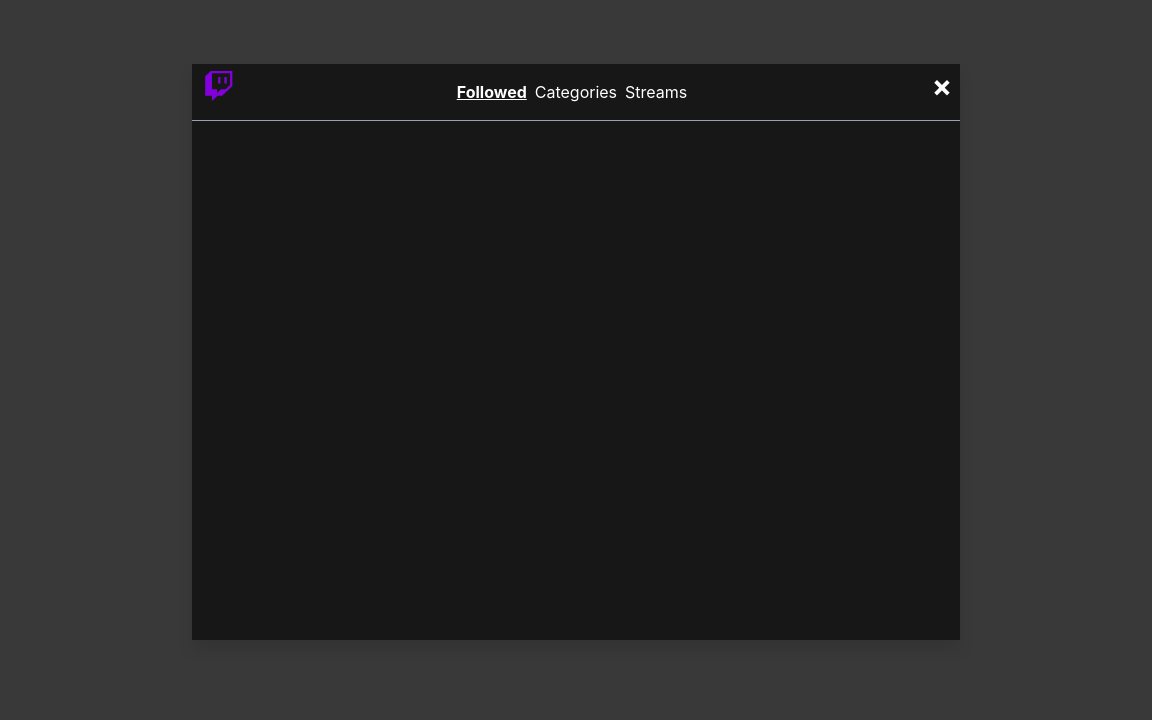
a failed next page can be retried, then the list ends
Click the button "Streams" at (656, 92), box 625,80 -> 687,104
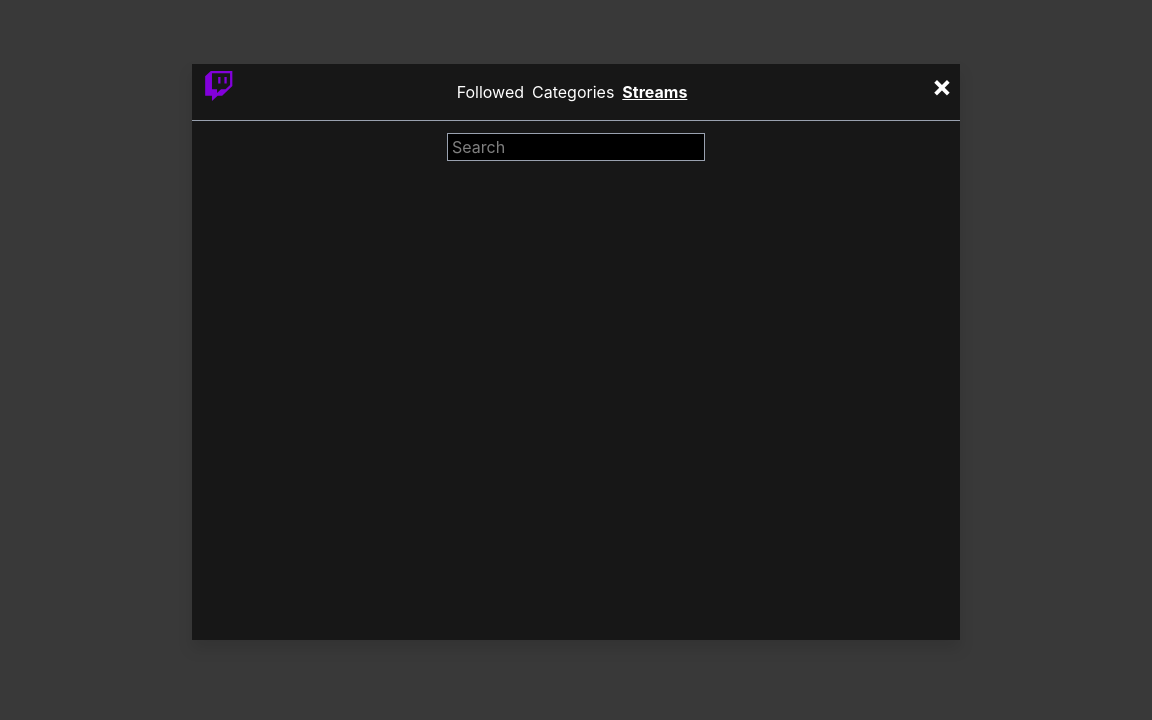
Type "ab" into the search field with placeholder "Search" at (576, 147), box 447,133 -> 705,161
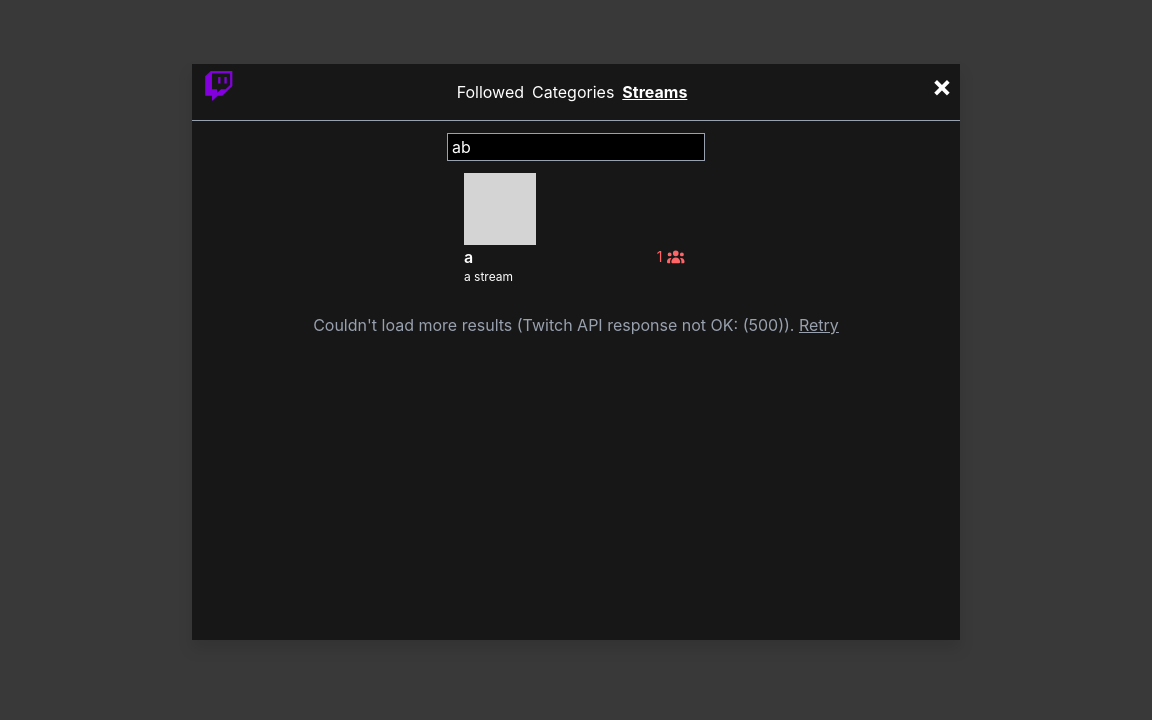
Click the button "Retry" at (819, 325), box 799,313 -> 839,337
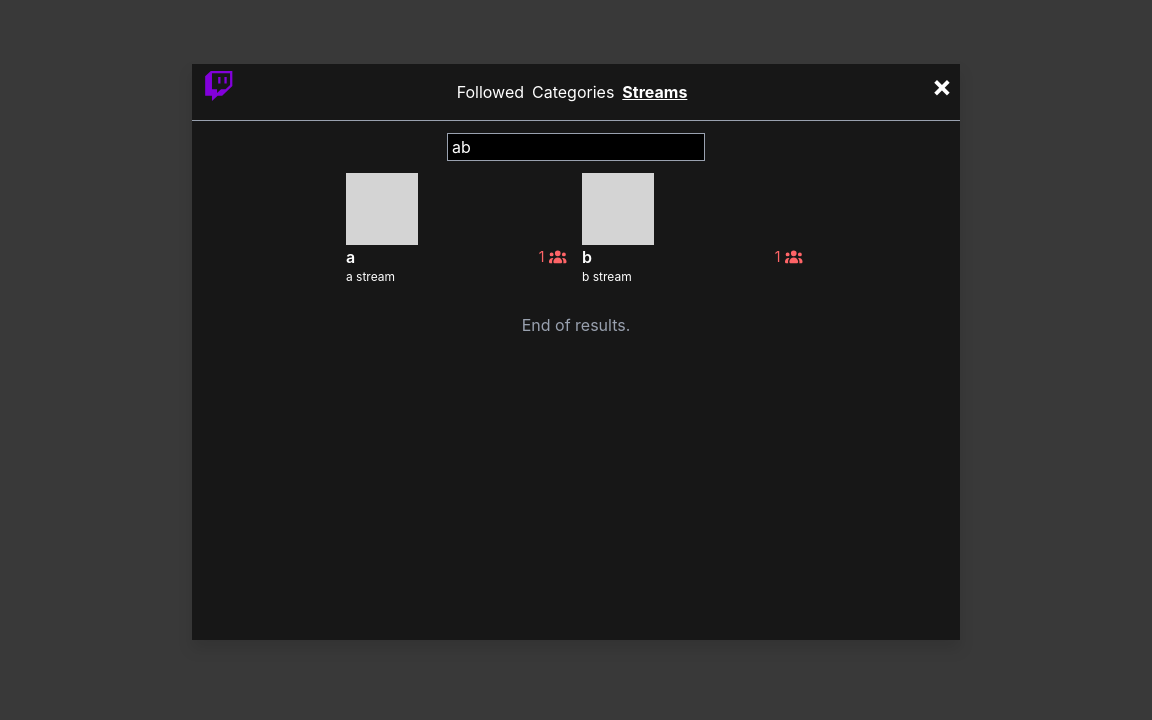
expect the text "End of results." is shown: met, box 522,315 -> 630,335
